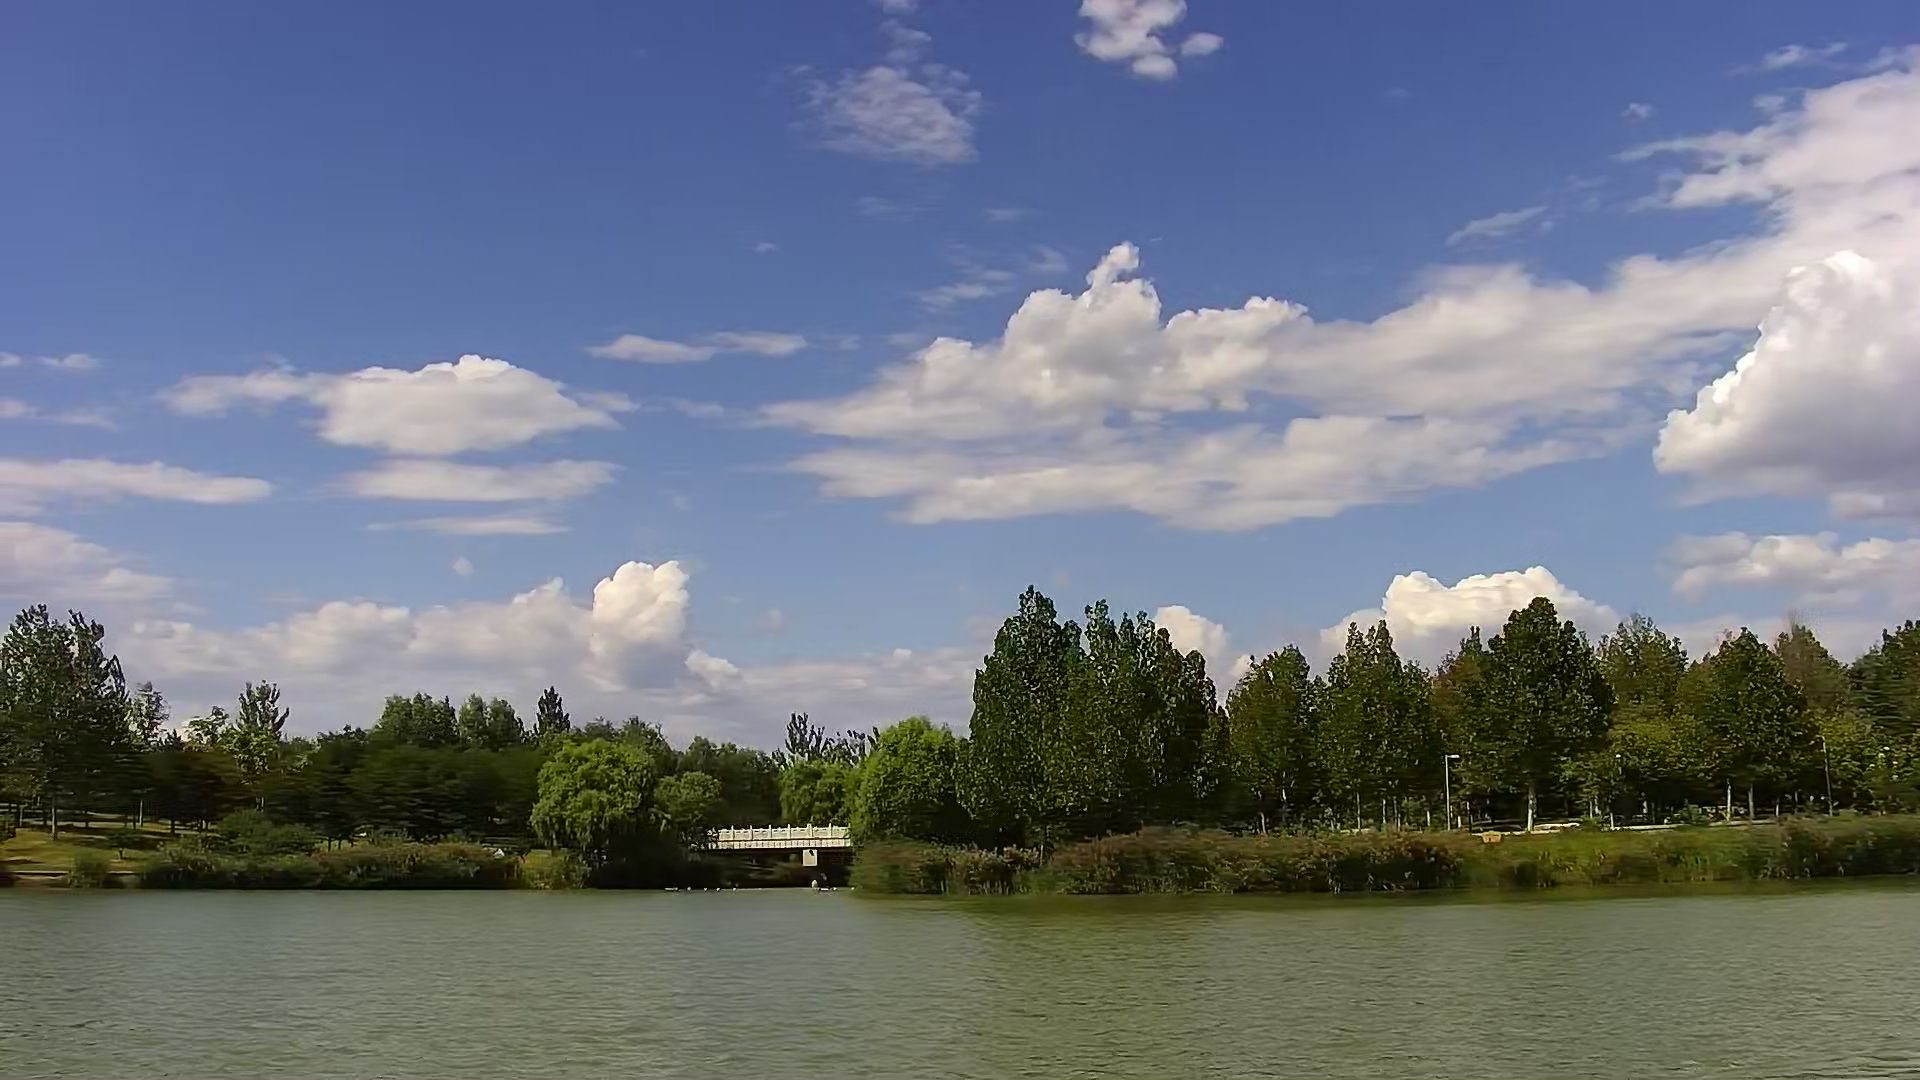bridge: (720, 822, 848, 891)
